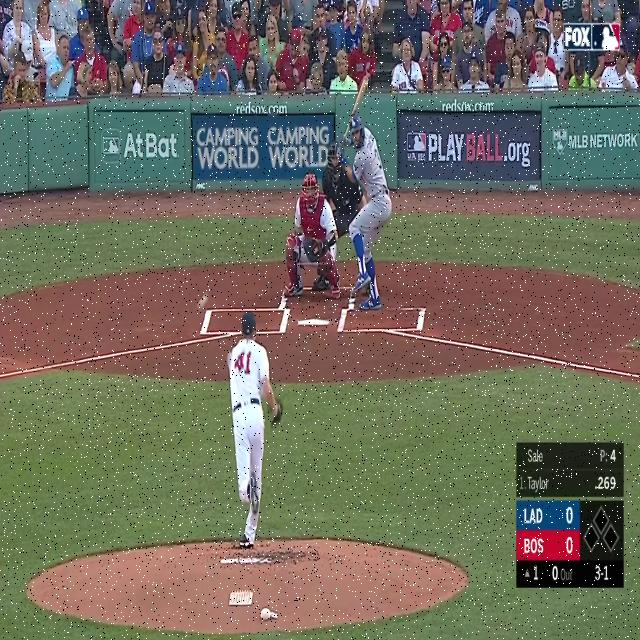baseball: (197, 292, 209, 310)
